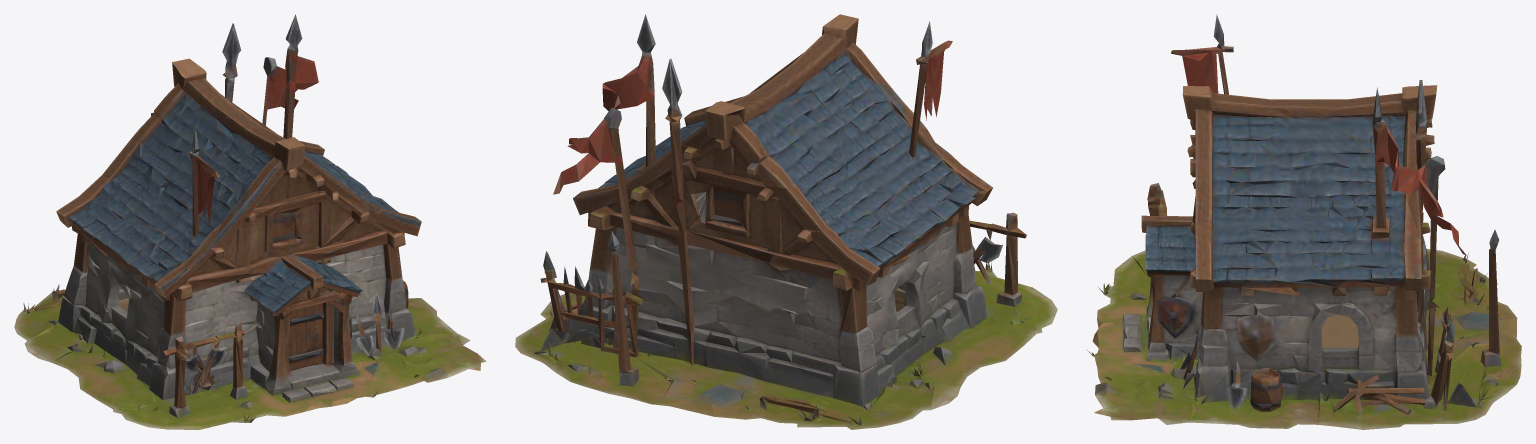
The model's file is barracks.glb.
3 renders of one model, left to right at view 1: azimuth 30°, elevation 25°; view 2: azimuth 150°, elevation 25°; view 3: azimuth 270°, elevation 25°, orthographic. The views are drawn at different scales.
Bounding box in the file's own units: 1.87 × 1.39 × 1.84.
Materials: 1 (1 with a texture image).
